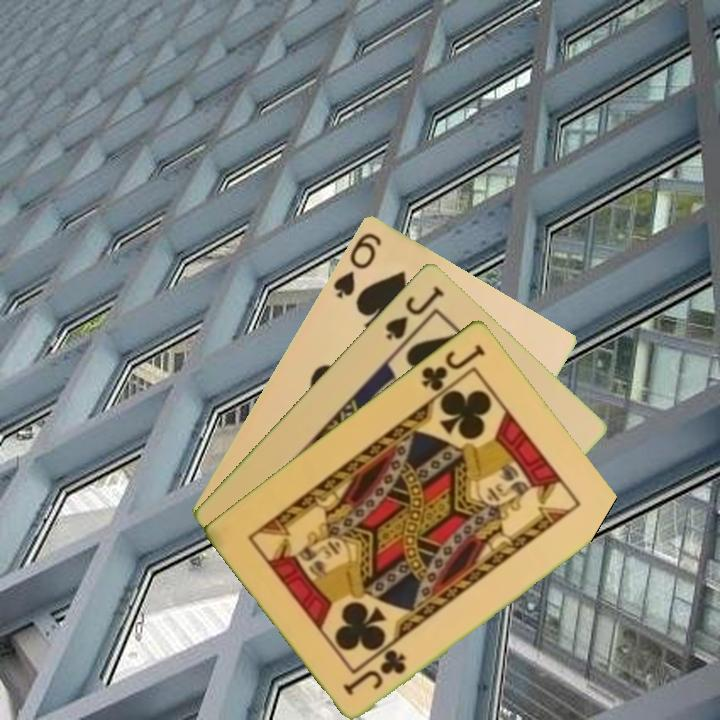6s: (329, 228, 385, 301)
Jc: (418, 340, 488, 394), (340, 645, 409, 698)
Js: (381, 281, 447, 343)
